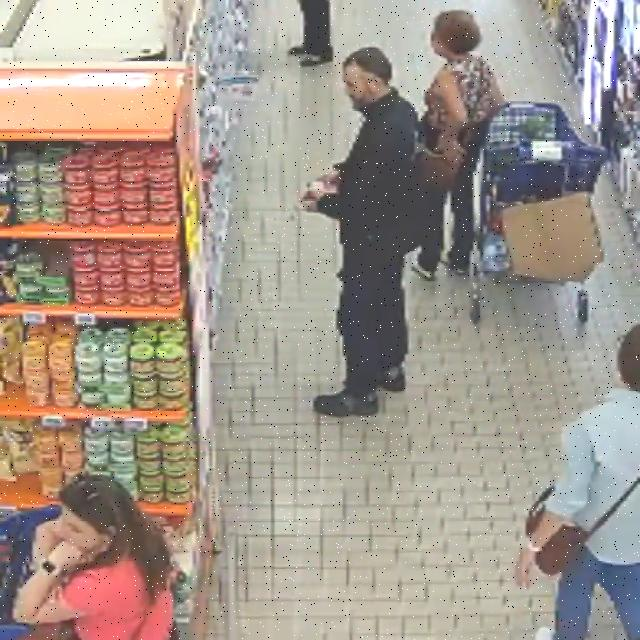article: (302, 178, 337, 200)
bags: (536, 477, 639, 576), (416, 144, 461, 191)
hands: (34, 518, 61, 561), (49, 542, 85, 571), (515, 548, 535, 587), (439, 137, 464, 166), (320, 169, 339, 188), (300, 199, 318, 212)
person: (312, 47, 422, 416), (517, 326, 639, 585), (14, 476, 172, 639), (422, 10, 503, 274), (290, 0, 333, 67)
